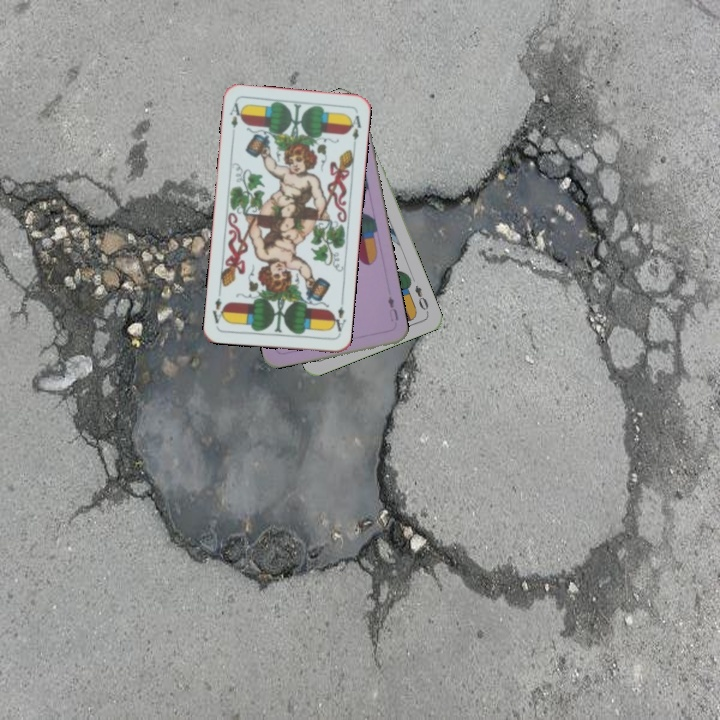EA: (328, 302, 348, 337), (226, 98, 245, 130)
EO: (411, 281, 431, 316)
EU: (383, 292, 401, 324)
